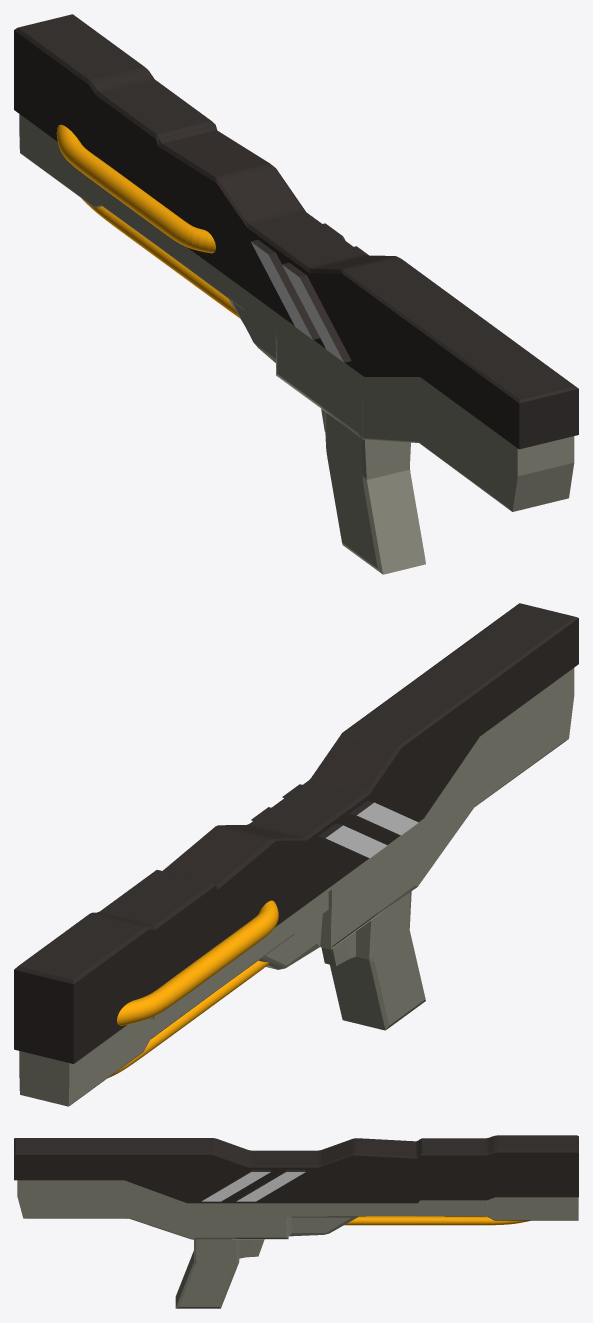
Rendered from gun_test.fbx.
The picture shows the model from 3 angles, top to bottom: view 1: azimuth 30°, elevation 25°; view 2: azimuth 150°, elevation 25°; view 3: azimuth 270°, elevation 25°; orthographic projection. The views are drawn at different scales.
Visible parts, largest first — view 1: Cube.001, Cube, Cylinder.002, Cylinder.001; view 2: Cube.001, Cube, Cylinder.002, Cylinder.001; view 3: Cube.001, Cube, Cylinder.001.
Part boxes in pixels (x1=…): Cube.001: x1=14, y1=14, x2=578, y2=449; Cube: x1=19, y1=114, x2=574, y2=574; Cylinder.002: x1=56, y1=124, x2=215, y2=253; Cylinder.001: x1=81, y1=198, x2=239, y2=317; Cube.001: x1=14, y1=603, x2=578, y2=1063; Cube: x1=19, y1=668, x2=574, y2=1106; Cylinder.002: x1=117, y1=900, x2=278, y2=1025; Cylinder.001: x1=108, y1=960, x2=269, y2=1077; Cube.001: x1=14, y1=1135, x2=578, y2=1203; Cube: x1=17, y1=1180, x2=578, y2=1308; Cylinder.001: x1=344, y1=1216, x2=530, y2=1225.
Size of the model in its own units: 291 by 913 by 2927.
